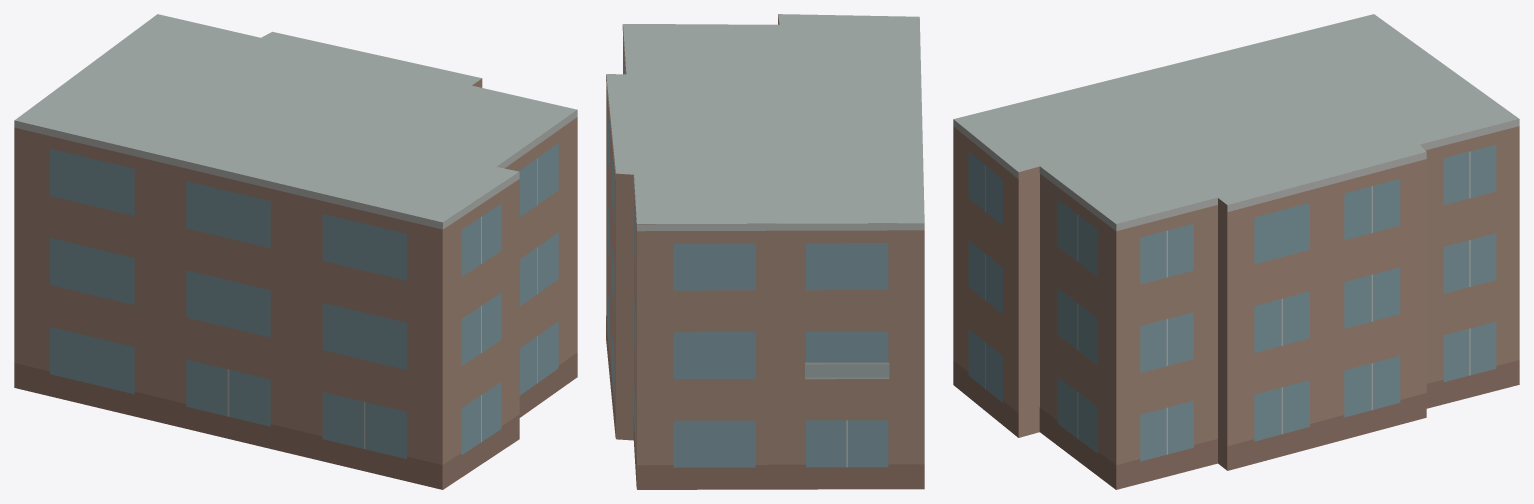
The model's file is survey-upis-32878744.glb.
3 renders of one model, left to right at view 1: azimuth 30°, elevation 25°; view 2: azimuth 150°, elevation 25°; view 3: azimuth 270°, elevation 25°, orthographic.
Parts seen in each view (by area): view 1: survey-upis-32878744.tmp; view 2: survey-upis-32878744.tmp; view 3: survey-upis-32878744.tmp.
Part boxes in pixels (x1,y1,x2,y2): survey-upis-32878744.tmp: [14, 14, 577, 489]; survey-upis-32878744.tmp: [606, 14, 924, 489]; survey-upis-32878744.tmp: [953, 14, 1519, 489].
Bounding box in the file's own units: 15.53 × 9.15 × 17.68.
